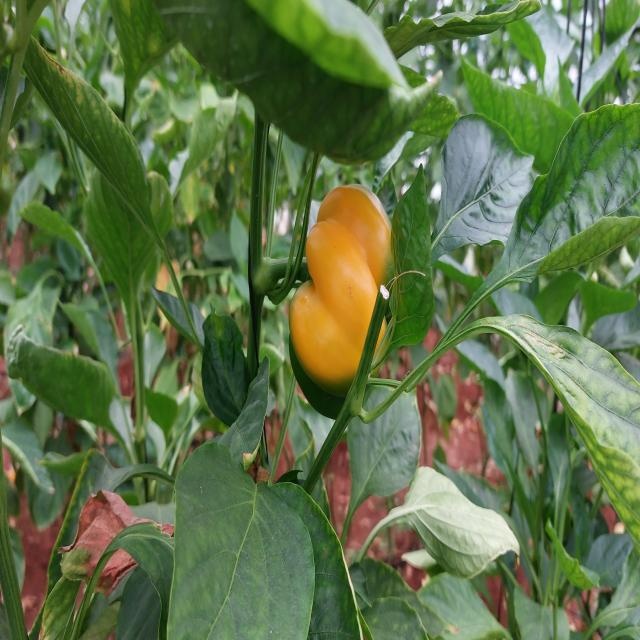Yellow-Ready-to-Harvest: (290, 184, 392, 378)
